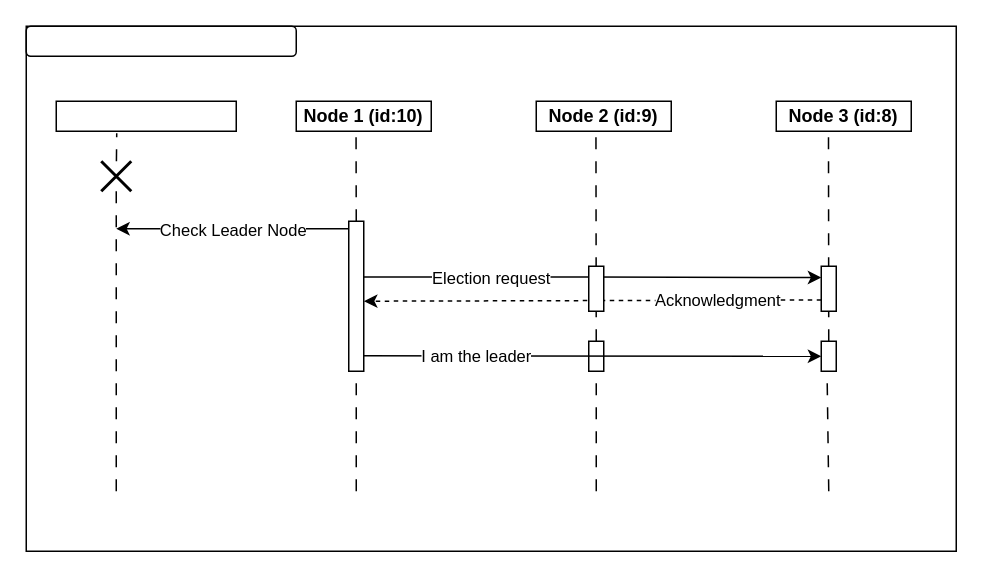
Image size: 983x578. Some labels were removed from this diagram. Each missing label, with the box of its shape:
Leader Node (id: 11): (55, 100, 236, 131)
Sequence Diagram v1.0: (25, 25, 296, 56)
